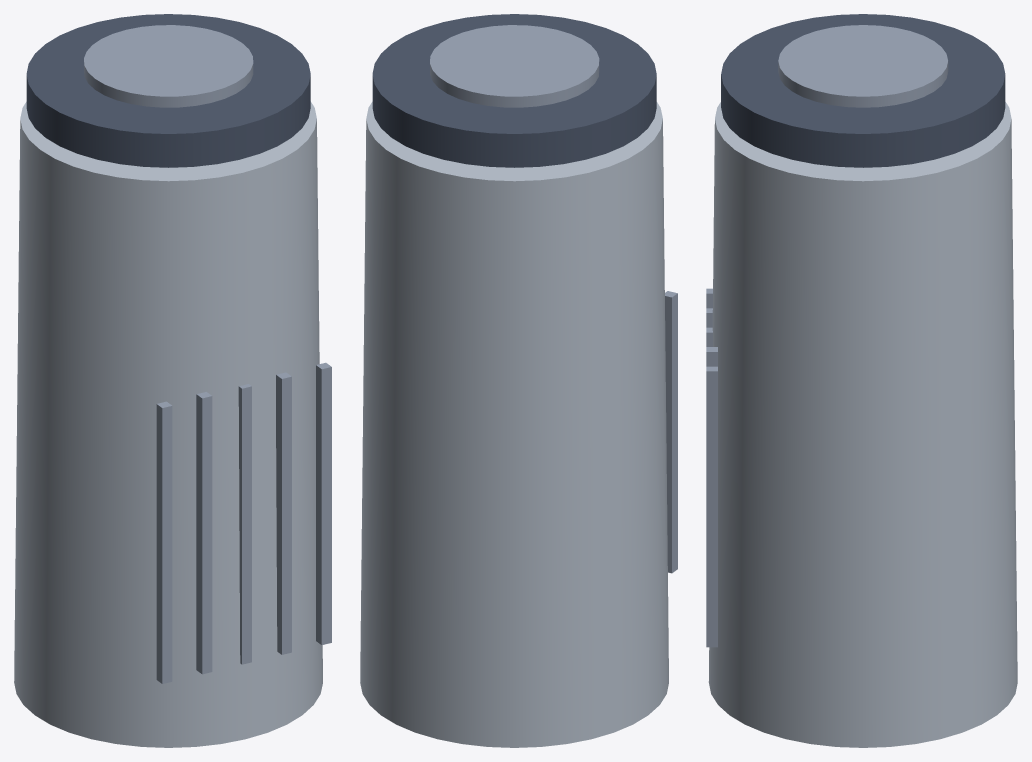
The model's file is airpurifier-lite.glb.
3 views of the same model, side by side, from view 1: azimuth 30°, elevation 25°; view 2: azimuth 150°, elevation 25°; view 3: azimuth 270°, elevation 25° (orthographic).
Visible parts, largest first — view 1: airpurifier; view 2: airpurifier; view 3: airpurifier.
Boxes of the visible parts, x1,y1,x2,y2 form: airpurifier: (14,14,331,747); airpurifier: (360,14,677,747); airpurifier: (706,14,1017,747).
Bounding box in the file's own units: 0.3196 × 0.7098 × 0.3222.
